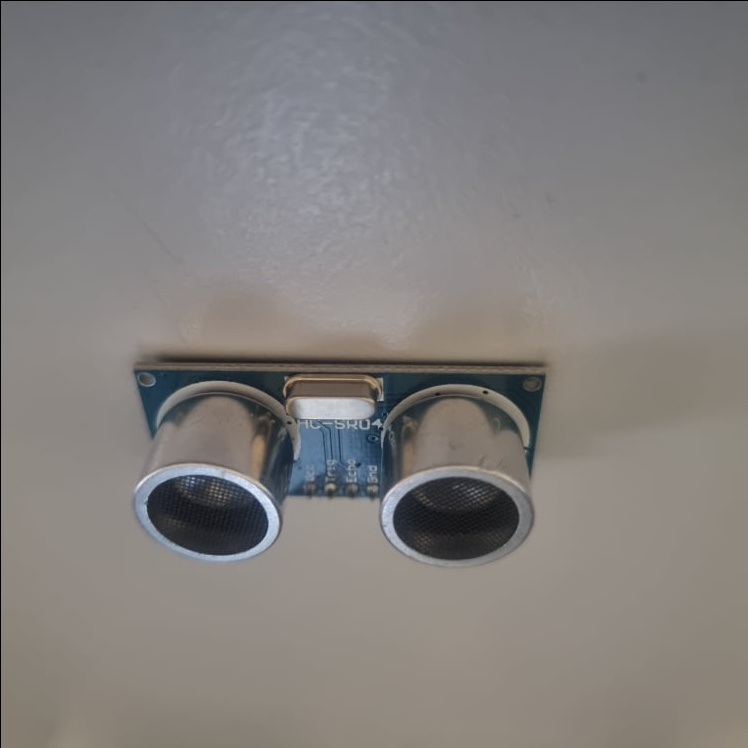SENSOR: (127, 361, 548, 569)
